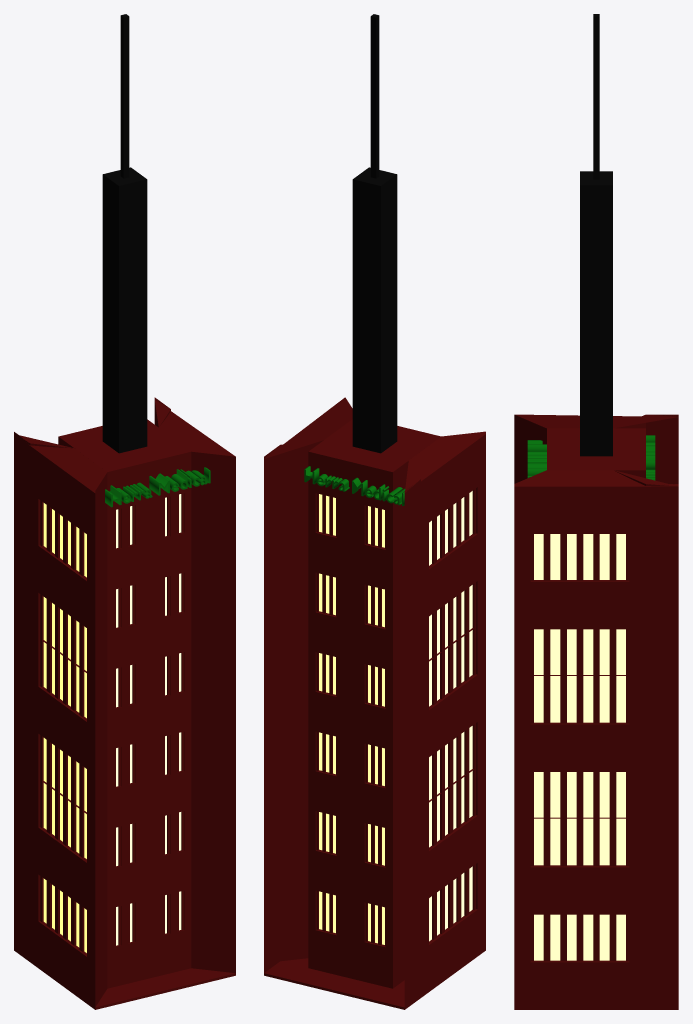
The model's file is herra_medical_HQ.fbx.
3 renders of one model, left to right at view 1: azimuth 30°, elevation 25°; view 2: azimuth 150°, elevation 25°; view 3: azimuth 270°, elevation 25°, orthographic.
Visible parts, largest first — view 1: Cube, Text.001; view 2: Cube, Text; view 3: Cube, Text.001, Text.
Part boxes in pixels (box(x1,y1,x2,y2)): Cube: box(14, 14, 235, 1009); Text.001: box(105, 467, 210, 507); Cube: box(264, 14, 485, 1009); Text: box(304, 466, 405, 505); Cube: box(514, 14, 678, 1009); Text.001: box(527, 440, 546, 477); Text: box(646, 435, 655, 480).
Bounding box in the file's own units: 240 × 1544 × 240.
